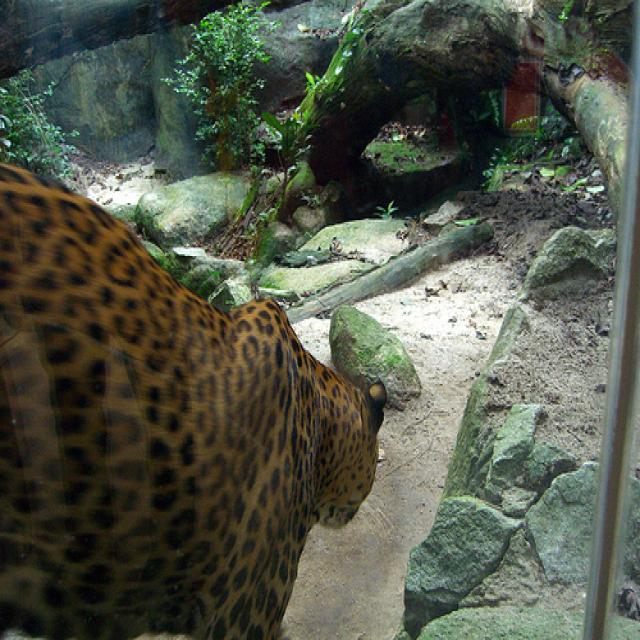Leopard: (0, 164, 388, 636)
